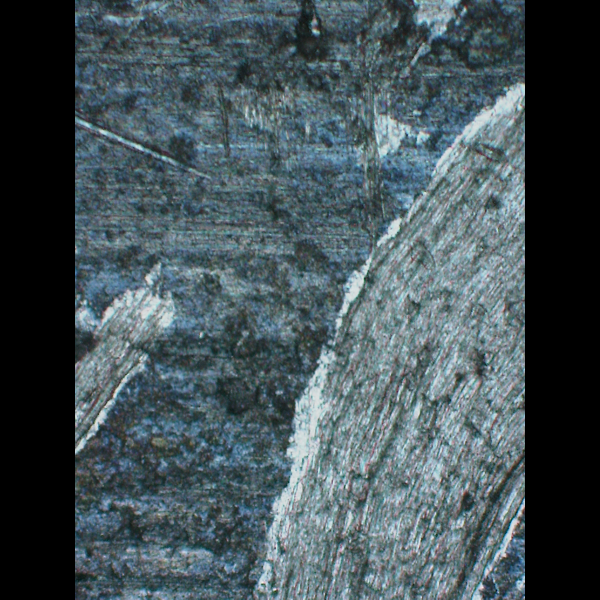d: (244, 68, 524, 600), (261, 0, 462, 187), (75, 253, 182, 468)
